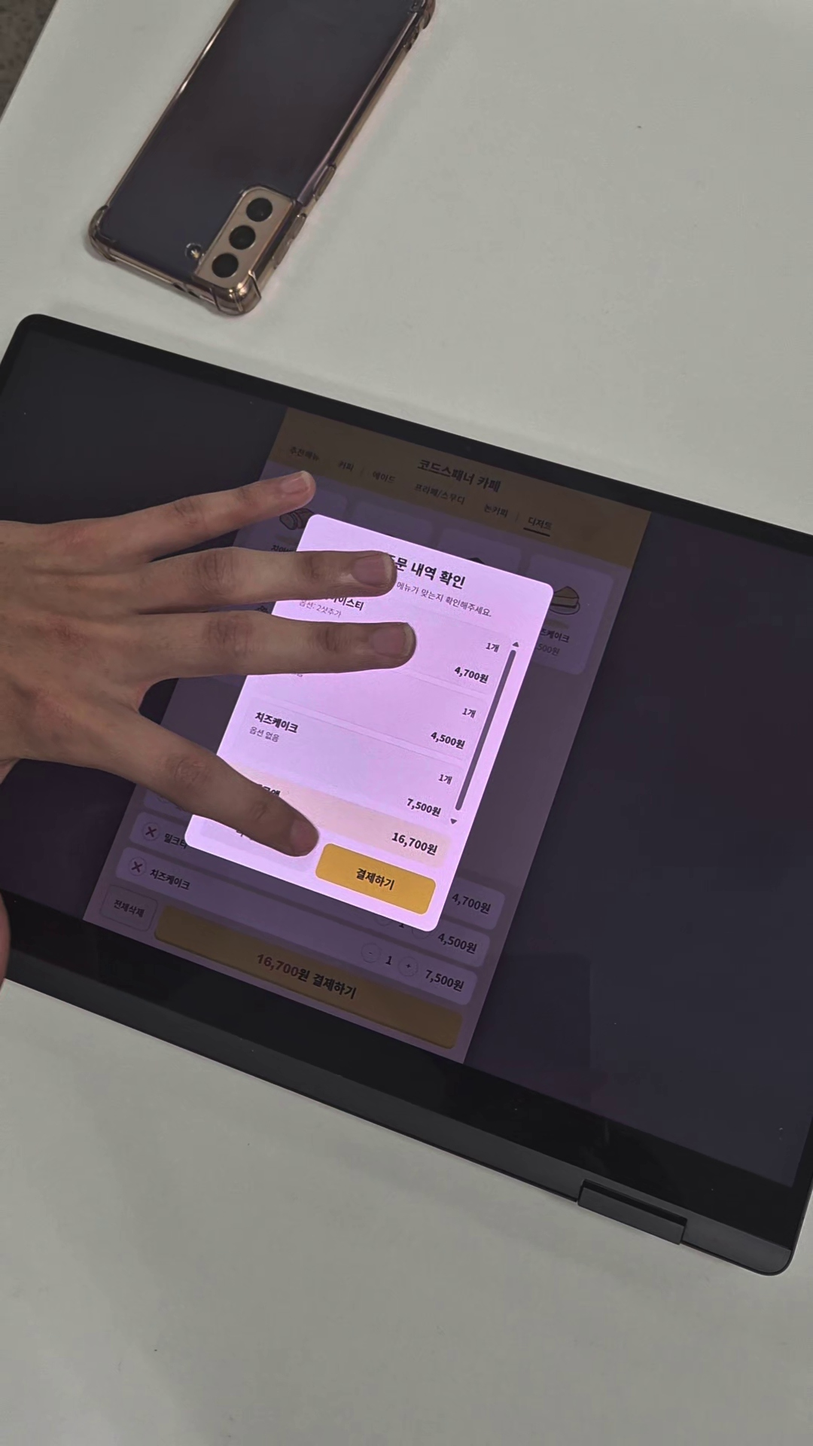action_button: (152, 905, 465, 1050), (312, 841, 438, 916), (99, 885, 159, 932)
cart_item: (113, 846, 479, 1007), (128, 808, 493, 969)
category_tab: (413, 482, 467, 506), (288, 445, 321, 463), (525, 515, 554, 532), (481, 502, 510, 519), (369, 469, 398, 486), (337, 460, 356, 473)
menu_back: (499, 553, 616, 678)
menu_name: (530, 623, 572, 645)
menu_price: (423, 726, 470, 754), (420, 966, 466, 994), (447, 890, 493, 918), (433, 931, 479, 958), (401, 795, 444, 820), (449, 662, 492, 687), (527, 638, 562, 659)
popup_modal: (182, 512, 555, 934)
